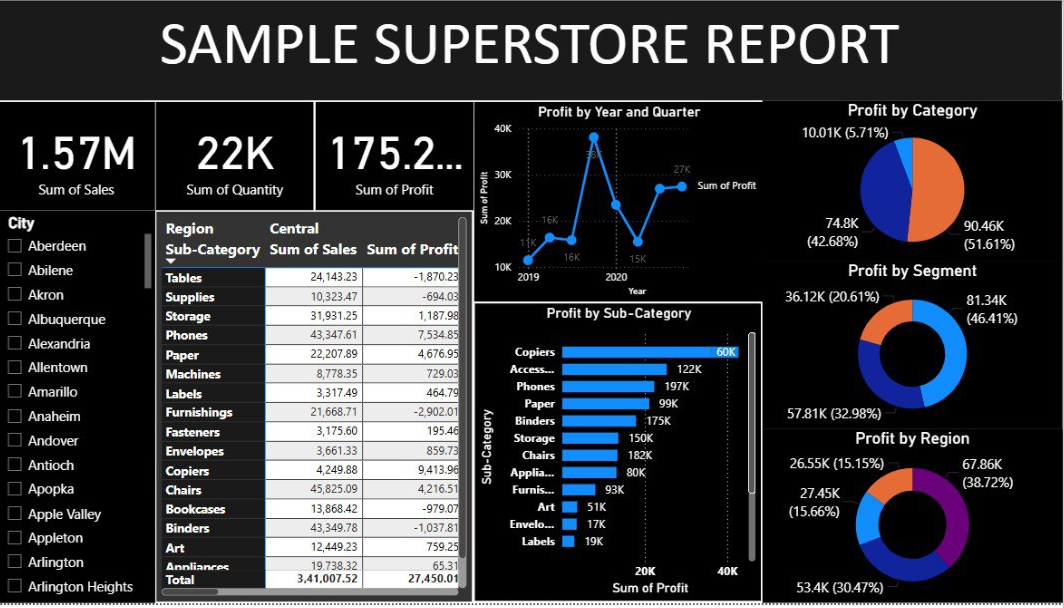

What the dashboard file says about the page in this screenshot:
{"tool":"powerbi","page":{"name":"Page 1","canvas":[1280,720],"ordinal":0},"visuals":[{"type":"textbox","box":[10,0,1270,88],"z":0},{"type":"card","fields":{"Values":["Sum(Sheet1.Sales)"]},"box":[10,88,196,166],"z":1000},{"type":"card","fields":{"Values":["Sum(Sheet1.Quantity)"]},"box":[206,88,196,166],"z":2000},{"type":"card","fields":{"Values":["Sum(Sheet1.Quantity)"]},"box":[402,88,196,166],"z":3000},{"type":"slicer","fields":{"Values":["Sheet1.City"]},"box":[10,254,196,466],"z":4000},{"type":"lineChart","fields":{"Y":["Sum(Sheet1.Profit)"],"Category":["Sheet1.Order Date.Variation.Date Hierarchy.Year","Sheet1.Order Date.Variation.Date Hierarchy.Quarter"]},"box":[598,88,288,272],"z":5000},{"type":"clusteredBarChart","fields":{"Category":["Sheet1.Sub-Category"],"Y":["Sum(Sheet1.Sales)"]},"box":[598,360,288,360],"z":6000},{"type":"pieChart","fields":{"Y":["Sum(Sheet1.Profit)"],"Category":["Sheet1.Category"]},"box":[886,88,394,190],"z":7000},{"type":"donutChart","fields":{"Y":["Sum(Sheet1.Profit)"],"Category":["Sheet1.Segment"]},"box":[886,278,394,234],"z":8000},{"type":"donutChart","fields":{"Y":["Sum(Sheet1.Profit)"],"Category":["Sheet1.Region"]},"box":[886,488,394,232],"z":9000},{"type":"pivotTable","fields":{"Rows":["Sheet1.Sub-Category"],"Values":["Sum(Sheet1.Sales)","Sum(Sheet1.Profit)"],"Columns":["Sheet1.Region"]},"box":[206,254,392,466],"z":10000}]}

Visuals, with their boxes in screenshot pixels (x1, y1, x2, y2), scaled from the page's 1280x720 canvas onto the 1064x608 screenshot:
textbox: crop(8, 0, 1063, 74)
card - Sum(Sheet1.Sales): crop(8, 74, 171, 214)
card - Sum(Sheet1.Quantity): crop(171, 74, 334, 214)
card - Sum(Sheet1.Quantity): crop(334, 74, 497, 214)
slicer - Sheet1.City: crop(8, 214, 171, 607)
lineChart - Sum(Sheet1.Profit) x Sheet1.Order Date.Variation.Date Hierarchy.Year: crop(497, 74, 736, 304)
clusteredBarChart - Sheet1.Sub-Category x Sum(Sheet1.Sales): crop(497, 304, 736, 607)
pieChart - Sum(Sheet1.Profit) x Sheet1.Category: crop(736, 74, 1063, 235)
donutChart - Sum(Sheet1.Profit) x Sheet1.Segment: crop(736, 235, 1063, 432)
donutChart - Sum(Sheet1.Profit) x Sheet1.Region: crop(736, 412, 1063, 607)
pivotTable - Sheet1.Sub-Category x Sum(Sheet1.Sales): crop(171, 214, 497, 607)
